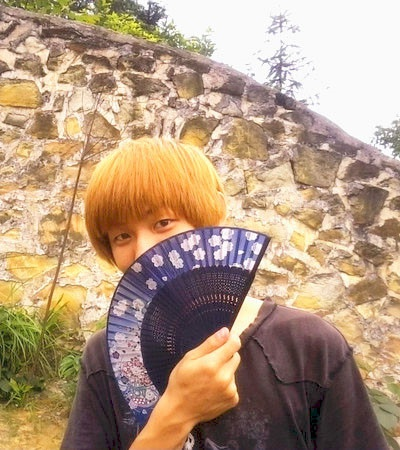face: (110, 194, 194, 302)
